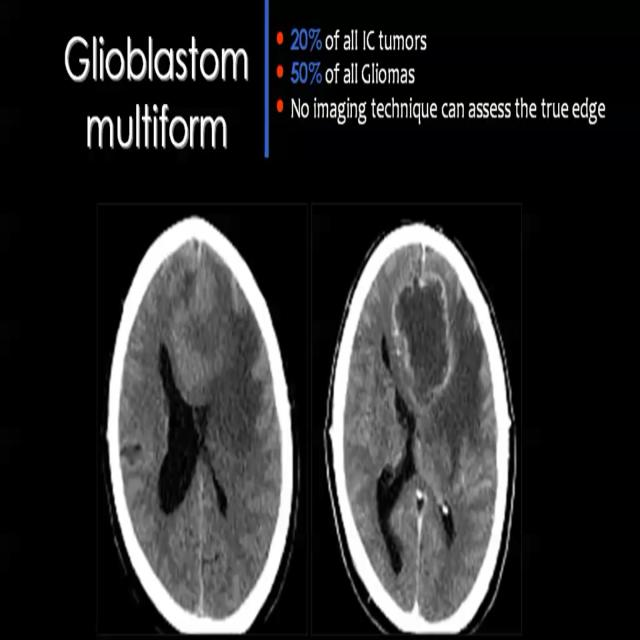Tumor: (394, 288, 454, 408)
